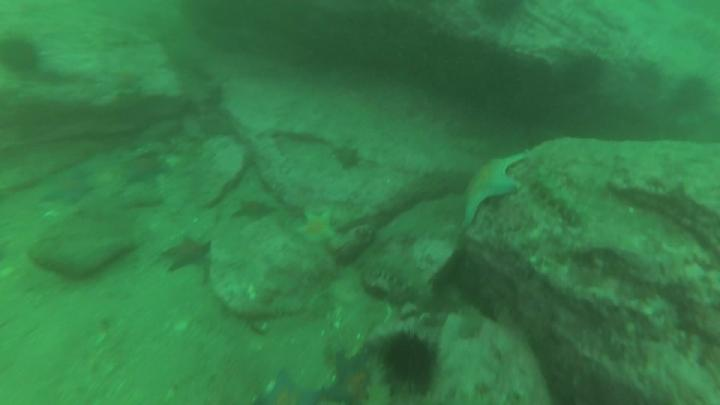echinus: (379, 328, 440, 397), (555, 47, 609, 100), (1, 34, 44, 79), (674, 74, 712, 115), (471, 1, 527, 26)
holothurian: (510, 158, 592, 234), (359, 268, 425, 313), (452, 300, 490, 342)
starfish: (461, 153, 527, 228), (322, 346, 377, 405), (248, 366, 325, 405), (114, 148, 177, 189), (290, 203, 344, 250), (162, 235, 222, 275), (40, 166, 95, 208), (229, 196, 279, 227)
